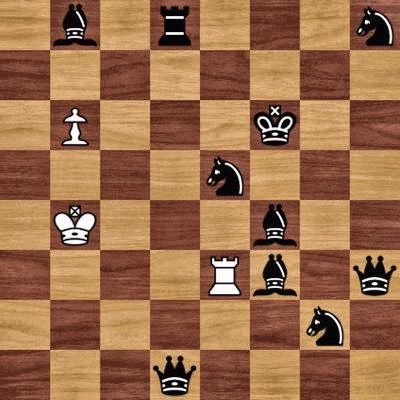black-bishop: (50, 0, 100, 50), (250, 200, 300, 250), (250, 250, 300, 300)
black-king: (250, 100, 300, 150)
black-knight: (350, 0, 400, 50), (200, 150, 250, 200), (300, 300, 350, 350)
black-queen: (350, 250, 400, 300), (150, 350, 200, 400)
black-rook: (150, 0, 200, 50)
white-king: (50, 200, 100, 250)
white-pawn: (50, 100, 100, 150)
white-rook: (200, 250, 250, 300)
